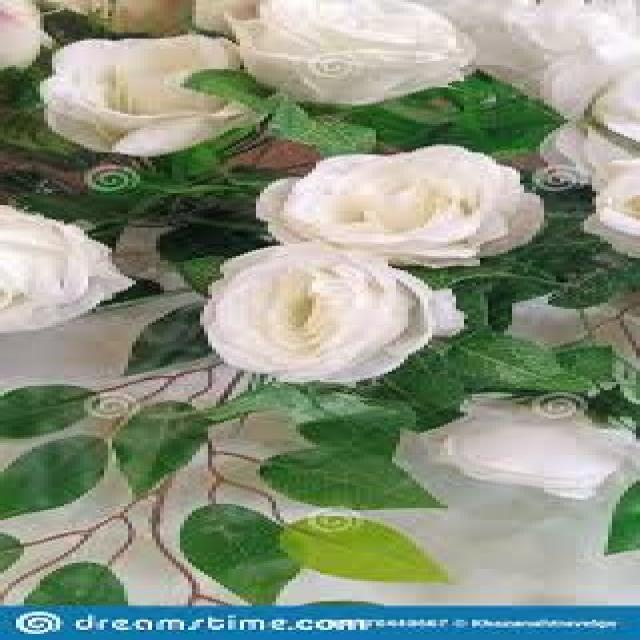rose: (187, 235, 492, 398)
